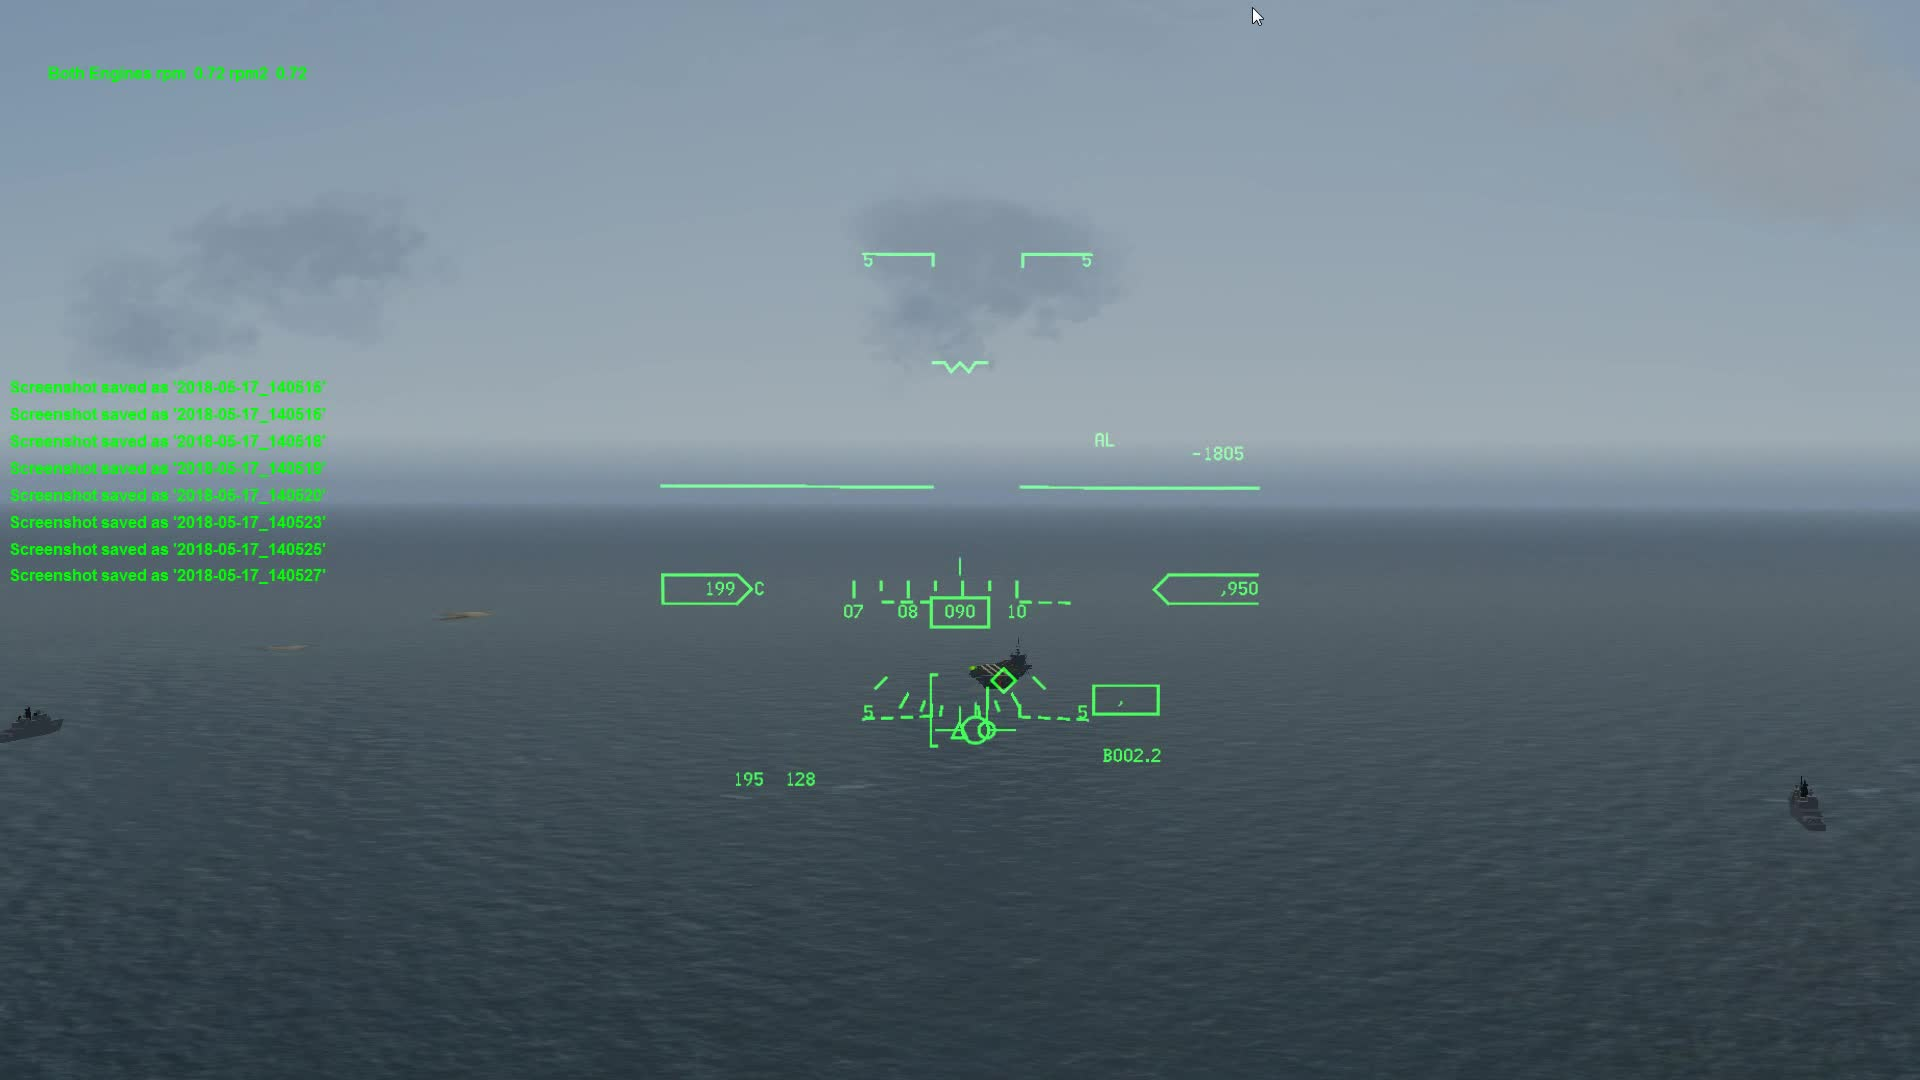speed vector: (940, 699, 1030, 752)
